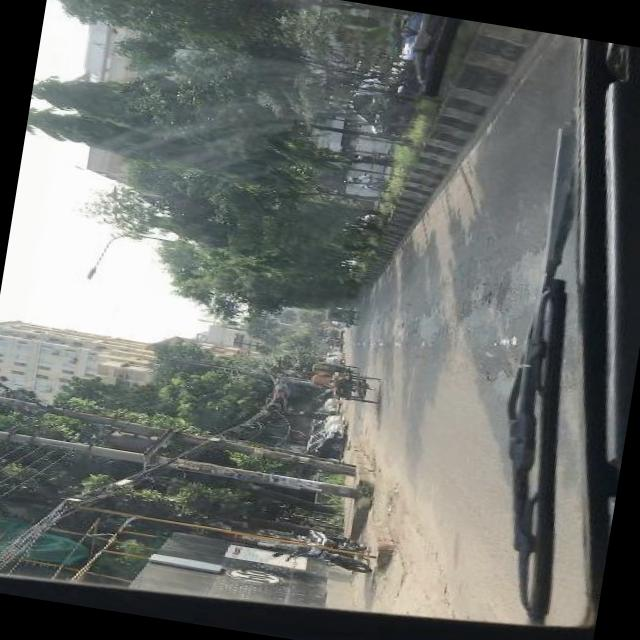bus: (321, 326, 342, 339)
car: (336, 8, 441, 144), (297, 431, 346, 483), (304, 412, 348, 451), (309, 397, 342, 426), (324, 354, 341, 366), (325, 348, 342, 358), (328, 322, 348, 329)
motorcycle: (269, 524, 375, 575), (312, 360, 359, 380), (326, 306, 358, 326), (361, 174, 391, 193), (323, 338, 342, 348)
